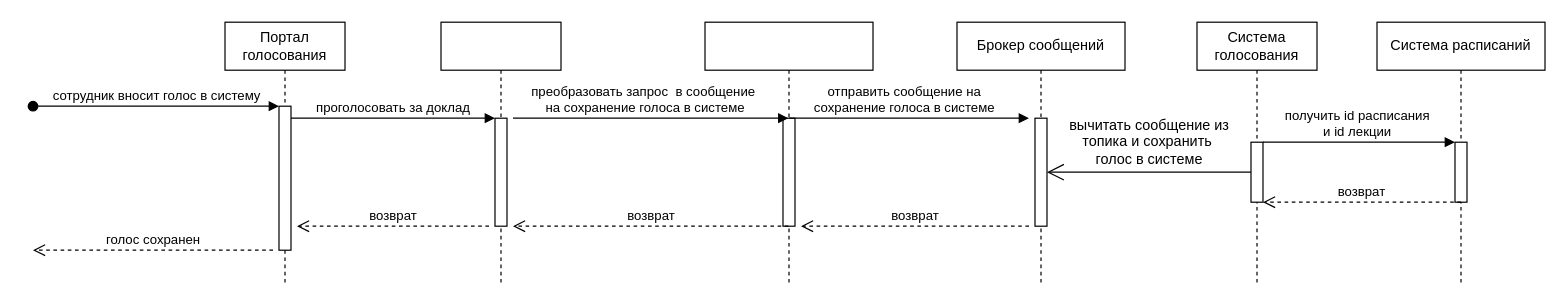
Some shapes in this 1566 by 307 pixel diagram are drawn without their labels. Each missing label, with the box of its shape:
Балансировщик нагрузки: (440, 21, 561, 286)
Интеграционный адаптер для системы голосования: (704, 21, 873, 286)
